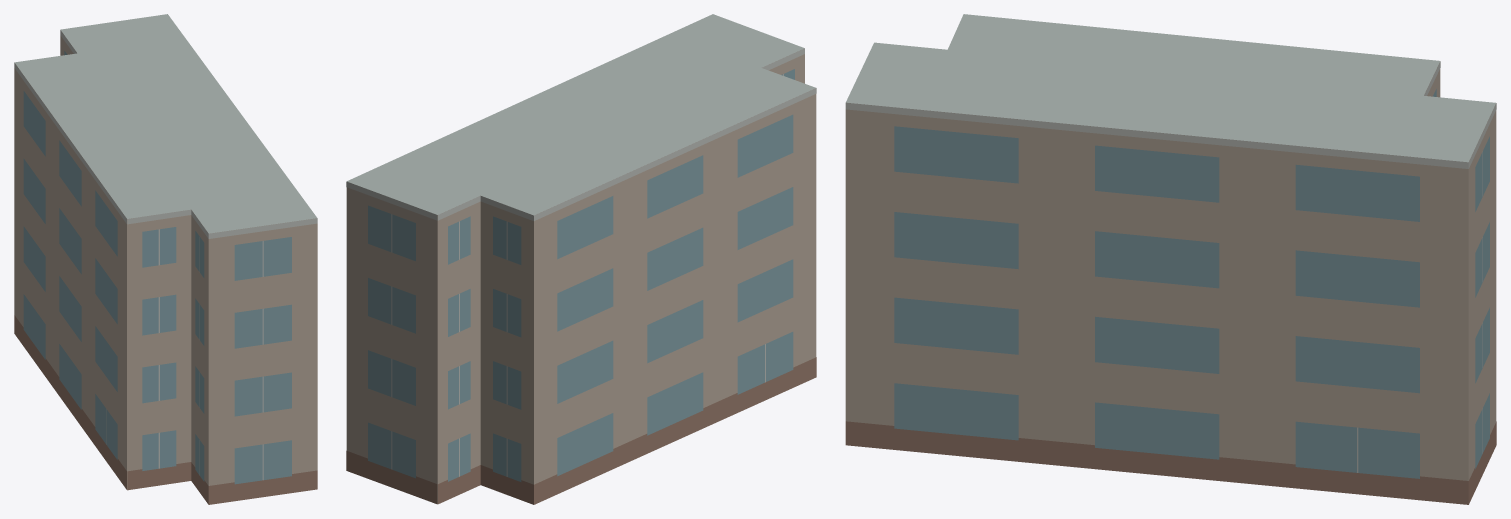
The model's file is survey-upis-32704111.glb.
3 renders of one model, left to right at view 1: azimuth 30°, elevation 25°; view 2: azimuth 150°, elevation 25°; view 3: azimuth 270°, elevation 25°, orthographic. The views are drawn at different scales.
Visible parts, largest first — view 1: survey-upis-32704111.tmp; view 2: survey-upis-32704111.tmp; view 3: survey-upis-32704111.tmp.
Boxes of the visible parts, bbox=[...] form: survey-upis-32704111.tmp: bbox=[14, 14, 317, 504]; survey-upis-32704111.tmp: bbox=[346, 14, 816, 504]; survey-upis-32704111.tmp: bbox=[845, 14, 1496, 504].
Bounding box in the file's own units: 11.43 × 12.3 × 21.18.
